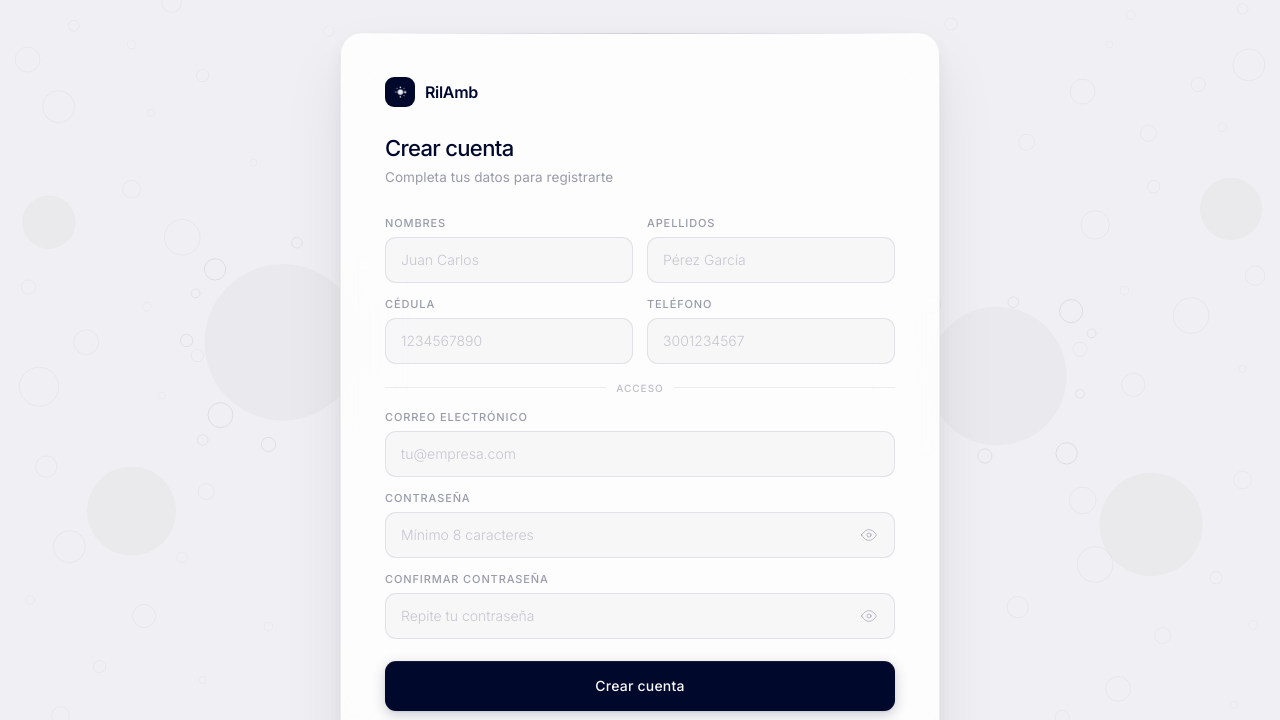
it: Register Component › should toggle password visibility in the register password field
Click the 1st button named "mostrar contraseña" at [869, 535], box top-left (856, 522), bottom-right (882, 548)
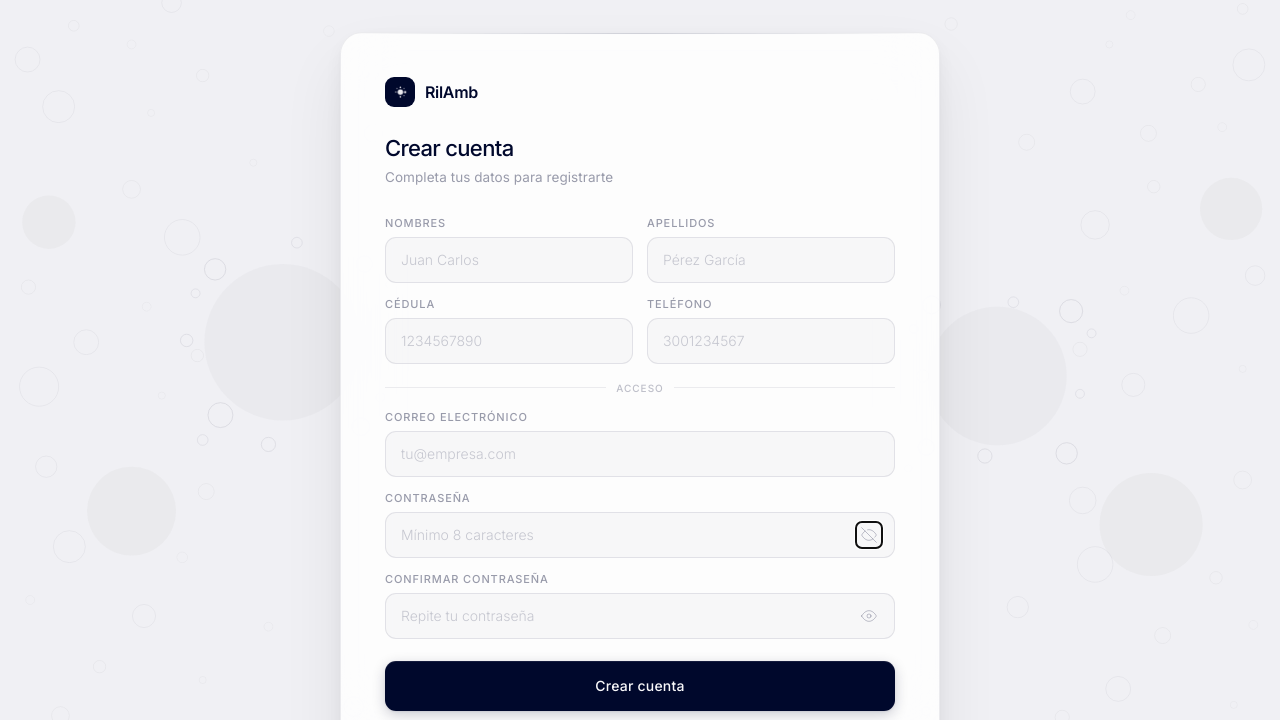
Check: the button named "ocultar contraseña" is shown, box top-left (856, 522), bottom-right (882, 548)
